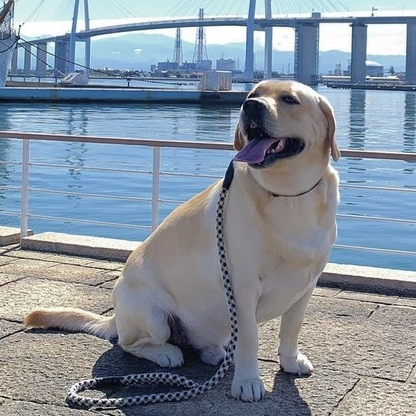labrado: (19, 74, 343, 406)
